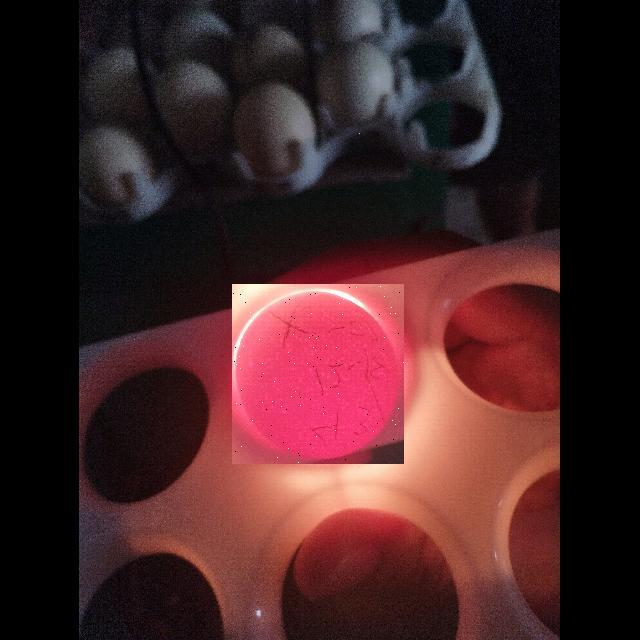Infertile: (232, 284, 404, 464)
